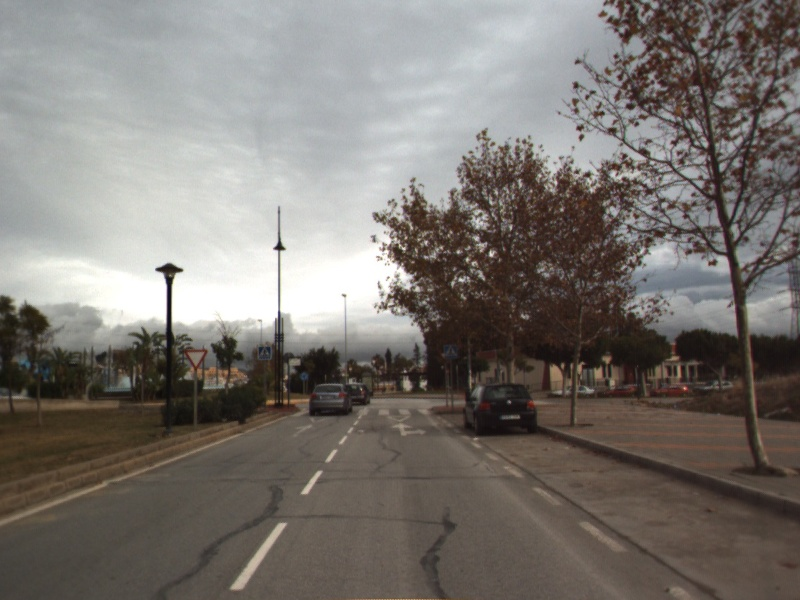STRAIGHT: (290, 422, 316, 439)
STRAIGHT_RIGHT: (389, 421, 429, 438)
